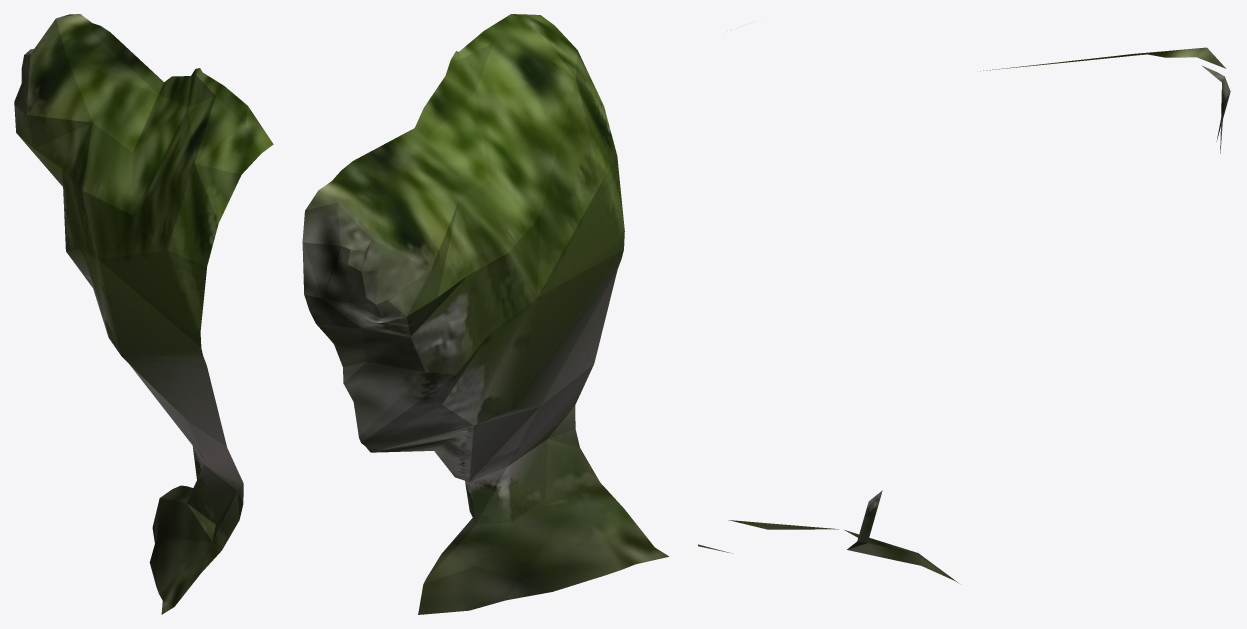
3 renders of one model, left to right at view 1: azimuth 30°, elevation 25°; view 2: azimuth 150°, elevation 25°; view 3: azimuth 270°, elevation 25°, orthographic. The views are drawn at different scales.
Size of the model in its own units: 0.2473 by 0.9822 by 0.7919.
1 material, 1 textured.
